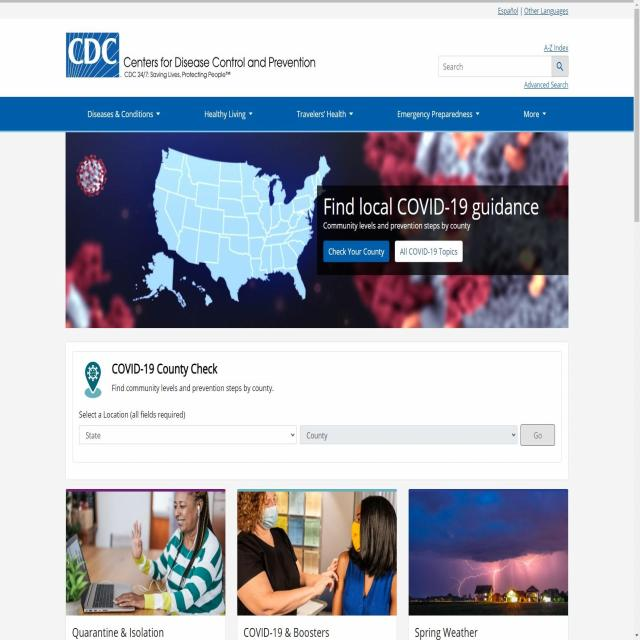button: (394, 240, 463, 262), (323, 240, 390, 262)
input: (438, 55, 552, 76)
select: (79, 424, 298, 446), (299, 424, 518, 446), (84, 106, 162, 123), (396, 108, 481, 122), (204, 107, 254, 122), (295, 108, 355, 120), (521, 107, 548, 121)
